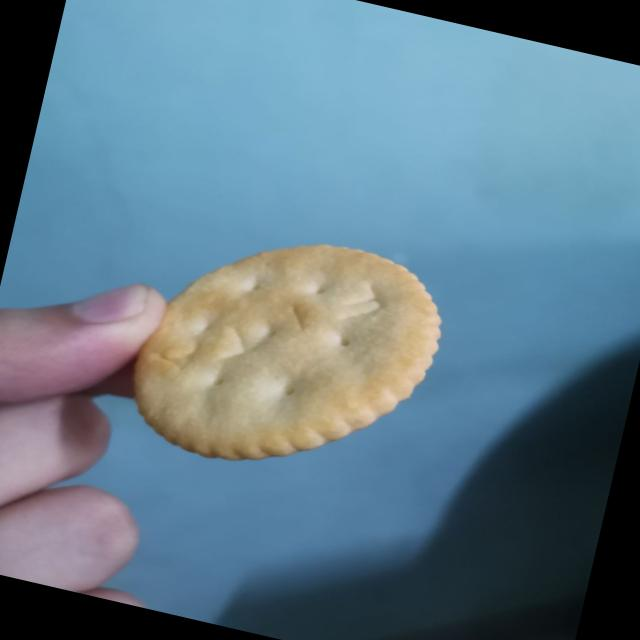intact biscuit: (115, 203, 457, 503)
